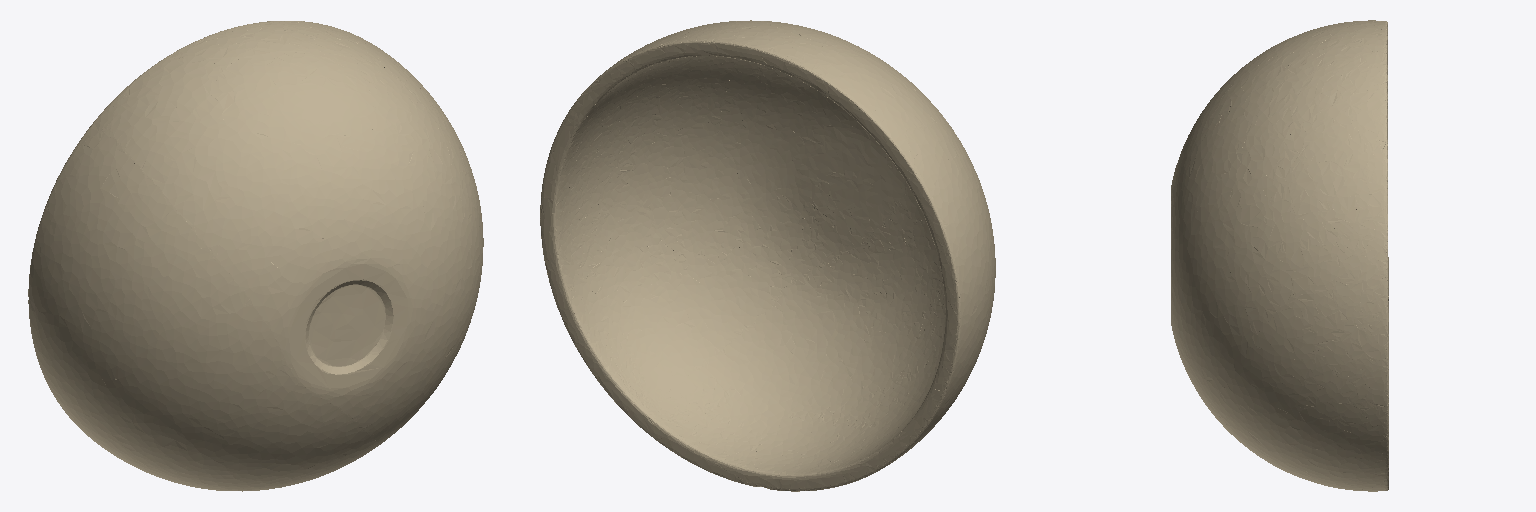
The robot description file, URDF, robot "object_194930206998778":
<?xml version="1.0"?>
<!-- Auto-generated by convert_assets.py from objects/194930206998778.
     Inertial: density 800.0 kg/m^3, raw mass 1.63831 kg clamped to 0.5 kg (inertia scaled to match). -->
<robot name="object_194930206998778">
  <link name="baseLink">
    <inertial>
      <origin rpy="0 0 0" xyz="0.00138915855 0.0644955834 -0.000265579589"/>
      <mass value="0.5"/>
      <inertia ixx="0.00379627503" ixy="-5.40641966e-06" ixz="1.08474639e-05" iyy="0.00606260224" iyz="1.26780365e-05" izz="0.00366857055"/>
    </inertial>
    <visual>
      <origin rpy="0 0 0" xyz="0 0 0"/>
      <geometry><mesh filename="../visual.obj" scale="1.0 1.0 1.0"/></geometry>
      <material name="mat"><color rgba="0.75 0.7 0.6 1"/></material>
    </visual>
    <collision name="collision_0">
      <origin rpy="0 0 0" xyz="0 0 0"/>
      <geometry><mesh filename="../convex/0.obj" scale="1.0 1.0 1.0"/></geometry>
    </collision>
    <collision name="collision_1">
      <origin rpy="0 0 0" xyz="0 0 0"/>
      <geometry><mesh filename="../convex/1.obj" scale="1.0 1.0 1.0"/></geometry>
    </collision>
    <collision name="collision_2">
      <origin rpy="0 0 0" xyz="0 0 0"/>
      <geometry><mesh filename="../convex/2.obj" scale="1.0 1.0 1.0"/></geometry>
    </collision>
    <collision name="collision_3">
      <origin rpy="0 0 0" xyz="0 0 0"/>
      <geometry><mesh filename="../convex/3.obj" scale="1.0 1.0 1.0"/></geometry>
    </collision>
    <collision name="collision_4">
      <origin rpy="0 0 0" xyz="0 0 0"/>
      <geometry><mesh filename="../convex/4.obj" scale="1.0 1.0 1.0"/></geometry>
    </collision>
    <collision name="collision_5">
      <origin rpy="0 0 0" xyz="0 0 0"/>
      <geometry><mesh filename="../convex/5.obj" scale="1.0 1.0 1.0"/></geometry>
    </collision>
    <collision name="collision_6">
      <origin rpy="0 0 0" xyz="0 0 0"/>
      <geometry><mesh filename="../convex/6.obj" scale="1.0 1.0 1.0"/></geometry>
    </collision>
    <collision name="collision_7">
      <origin rpy="0 0 0" xyz="0 0 0"/>
      <geometry><mesh filename="../convex/7.obj" scale="1.0 1.0 1.0"/></geometry>
    </collision>
    <collision name="collision_8">
      <origin rpy="0 0 0" xyz="0 0 0"/>
      <geometry><mesh filename="../convex/8.obj" scale="1.0 1.0 1.0"/></geometry>
    </collision>
    <collision name="collision_9">
      <origin rpy="0 0 0" xyz="0 0 0"/>
      <geometry><mesh filename="../convex/9.obj" scale="1.0 1.0 1.0"/></geometry>
    </collision>
    <collision name="collision_10">
      <origin rpy="0 0 0" xyz="0 0 0"/>
      <geometry><mesh filename="../convex/10.obj" scale="1.0 1.0 1.0"/></geometry>
    </collision>
    <collision name="collision_11">
      <origin rpy="0 0 0" xyz="0 0 0"/>
      <geometry><mesh filename="../convex/11.obj" scale="1.0 1.0 1.0"/></geometry>
    </collision>
    <collision name="collision_12">
      <origin rpy="0 0 0" xyz="0 0 0"/>
      <geometry><mesh filename="../convex/12.obj" scale="1.0 1.0 1.0"/></geometry>
    </collision>
    <collision name="collision_13">
      <origin rpy="0 0 0" xyz="0 0 0"/>
      <geometry><mesh filename="../convex/13.obj" scale="1.0 1.0 1.0"/></geometry>
    </collision>
    <collision name="collision_14">
      <origin rpy="0 0 0" xyz="0 0 0"/>
      <geometry><mesh filename="../convex/14.obj" scale="1.0 1.0 1.0"/></geometry>
    </collision>
    <collision name="collision_15">
      <origin rpy="0 0 0" xyz="0 0 0"/>
      <geometry><mesh filename="../convex/15.obj" scale="1.0 1.0 1.0"/></geometry>
    </collision>
    <collision name="collision_16">
      <origin rpy="0 0 0" xyz="0 0 0"/>
      <geometry><mesh filename="../convex/16.obj" scale="1.0 1.0 1.0"/></geometry>
    </collision>
    <collision name="collision_17">
      <origin rpy="0 0 0" xyz="0 0 0"/>
      <geometry><mesh filename="../convex/17.obj" scale="1.0 1.0 1.0"/></geometry>
    </collision>
    <collision name="collision_18">
      <origin rpy="0 0 0" xyz="0 0 0"/>
      <geometry><mesh filename="../convex/18.obj" scale="1.0 1.0 1.0"/></geometry>
    </collision>
    <collision name="collision_19">
      <origin rpy="0 0 0" xyz="0 0 0"/>
      <geometry><mesh filename="../convex/19.obj" scale="1.0 1.0 1.0"/></geometry>
    </collision>
    <collision name="collision_20">
      <origin rpy="0 0 0" xyz="0 0 0"/>
      <geometry><mesh filename="../convex/20.obj" scale="1.0 1.0 1.0"/></geometry>
    </collision>
    <collision name="collision_21">
      <origin rpy="0 0 0" xyz="0 0 0"/>
      <geometry><mesh filename="../convex/21.obj" scale="1.0 1.0 1.0"/></geometry>
    </collision>
    <collision name="collision_22">
      <origin rpy="0 0 0" xyz="0 0 0"/>
      <geometry><mesh filename="../convex/22.obj" scale="1.0 1.0 1.0"/></geometry>
    </collision>
    <collision name="collision_23">
      <origin rpy="0 0 0" xyz="0 0 0"/>
      <geometry><mesh filename="../convex/23.obj" scale="1.0 1.0 1.0"/></geometry>
    </collision>
    <collision name="collision_24">
      <origin rpy="0 0 0" xyz="0 0 0"/>
      <geometry><mesh filename="../convex/24.obj" scale="1.0 1.0 1.0"/></geometry>
    </collision>
    <collision name="collision_25">
      <origin rpy="0 0 0" xyz="0 0 0"/>
      <geometry><mesh filename="../convex/25.obj" scale="1.0 1.0 1.0"/></geometry>
    </collision>
    <collision name="collision_26">
      <origin rpy="0 0 0" xyz="0 0 0"/>
      <geometry><mesh filename="../convex/26.obj" scale="1.0 1.0 1.0"/></geometry>
    </collision>
    <collision name="collision_27">
      <origin rpy="0 0 0" xyz="0 0 0"/>
      <geometry><mesh filename="../convex/27.obj" scale="1.0 1.0 1.0"/></geometry>
    </collision>
    <collision name="collision_28">
      <origin rpy="0 0 0" xyz="0 0 0"/>
      <geometry><mesh filename="../convex/28.obj" scale="1.0 1.0 1.0"/></geometry>
    </collision>
    <collision name="collision_29">
      <origin rpy="0 0 0" xyz="0 0 0"/>
      <geometry><mesh filename="../convex/29.obj" scale="1.0 1.0 1.0"/></geometry>
    </collision>
    <collision name="collision_30">
      <origin rpy="0 0 0" xyz="0 0 0"/>
      <geometry><mesh filename="../convex/30.obj" scale="1.0 1.0 1.0"/></geometry>
    </collision>
    <collision name="collision_31">
      <origin rpy="0 0 0" xyz="0 0 0"/>
      <geometry><mesh filename="../convex/31.obj" scale="1.0 1.0 1.0"/></geometry>
    </collision>
  </link>
</robot>

--- Facts derived from the render (not from the file) ---
3 views of the same robot in one strip: view 1: azimuth 30°, elevation 25°; view 2: azimuth 150°, elevation 25°; view 3: azimuth 270°, elevation 25° (orthographic).
Robot: object_194930206998778 — 1 links, 0 joints (none); root link baseLink; default pose: every joint at zero.
Visible links, largest first — view 1: baseLink; view 2: baseLink; view 3: baseLink.
Link boxes in pixels (x1,y1,x2,y2): baseLink: [28, 21, 483, 491]; baseLink: [540, 20, 995, 491]; baseLink: [1171, 20, 1388, 491].
Size in the robot's own frame: 0.28 by 0.13 by 0.2801 metres.
1 mesh visuals loaded from 1 distinct referenced files (1 OBJ).
